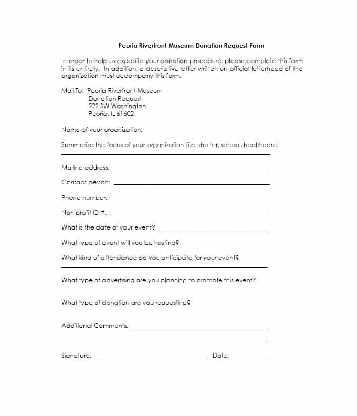textline: (60, 284, 269, 293), (60, 335, 269, 344), (61, 261, 269, 270), (109, 191, 272, 202), (109, 205, 270, 216), (112, 175, 272, 186), (112, 161, 271, 172), (59, 307, 269, 315), (59, 149, 272, 156), (129, 320, 270, 330), (144, 123, 272, 134), (157, 220, 271, 232), (92, 350, 210, 360), (181, 236, 271, 246), (231, 350, 269, 359)
